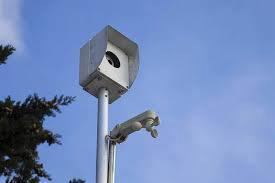Speed-Camera: (74, 19, 143, 105)
